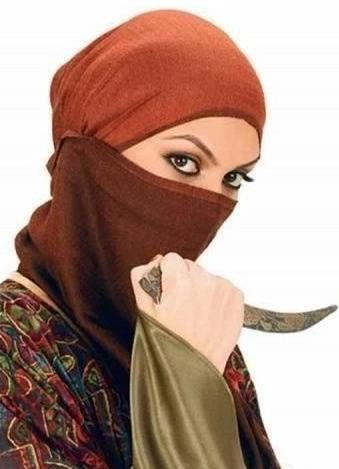OK: (113, 127, 255, 269)
